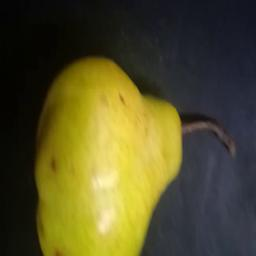Pear Fresh: (25, 51, 256, 256)
